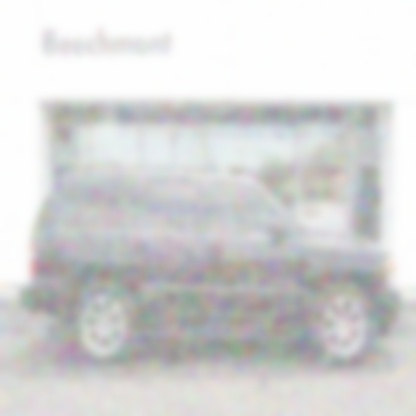Vehicle: (19, 169, 404, 370)
